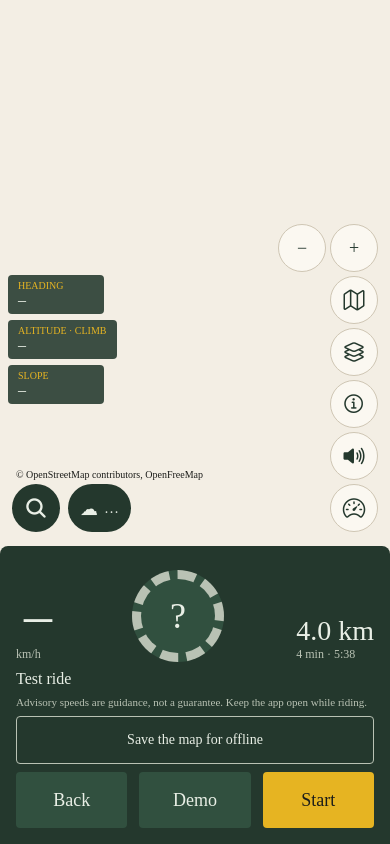
Test: altitude and slope follow the GPS, and dash when the GPS gives no altitude
The width and height of the screenshot is (390, 844).
Click the button "Start" at (318, 800), box [263,772,374,828]
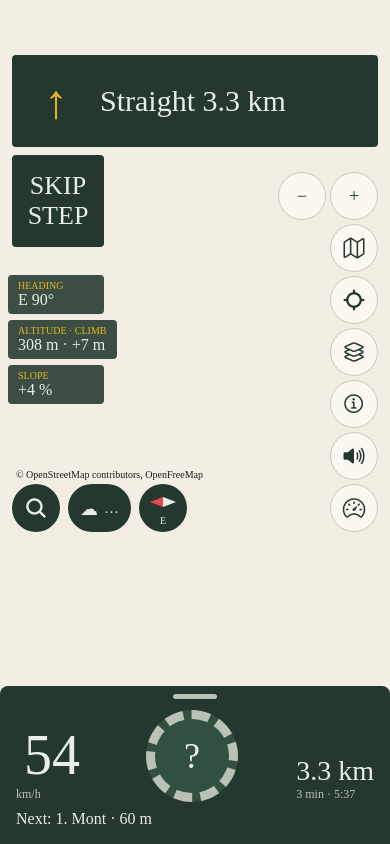
Check: the element labelled "ALTITUDE · CLIMB 308 m · +7 m" is shown, box [8,320,116,359]
Check: the element labelled "SLOPE +4 %" is shown, box [8,365,104,404]
